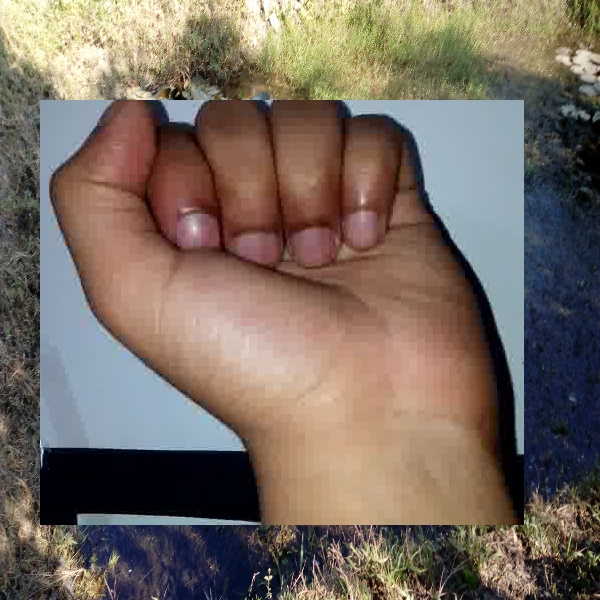A: (40, 100, 524, 525)
